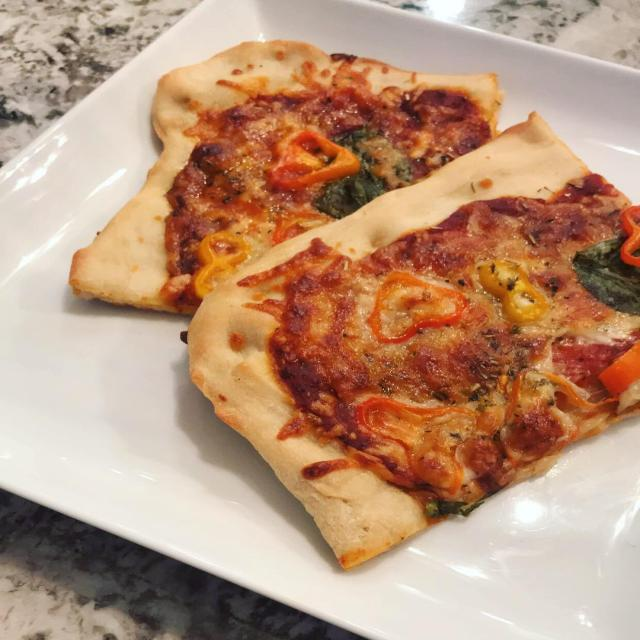basil: (313, 124, 413, 218), (572, 235, 640, 320)
pizza: (177, 110, 640, 577), (67, 37, 508, 317)
